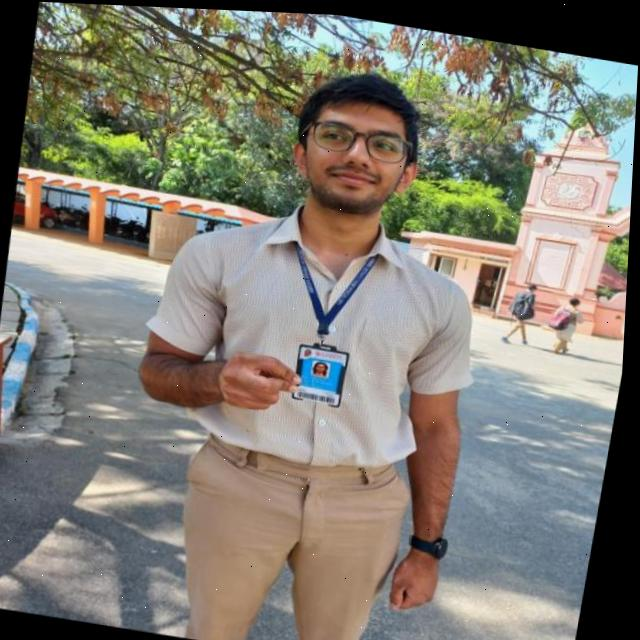id_card: (264, 228, 382, 412)
